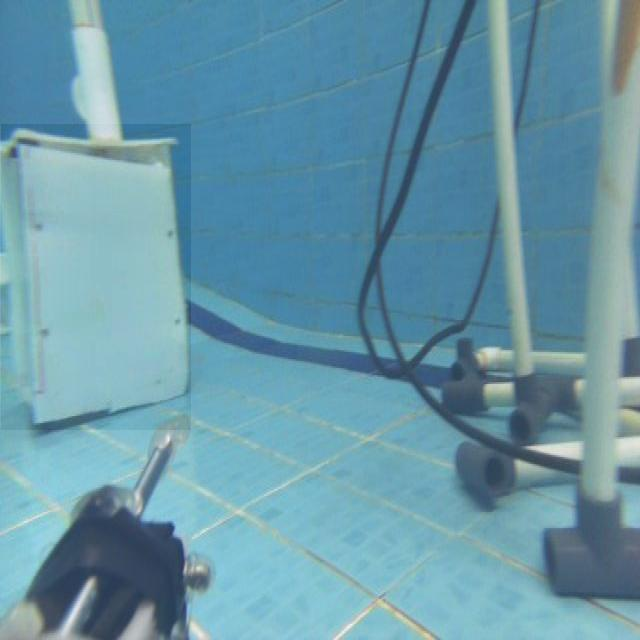Cube: (1, 124, 191, 430)
